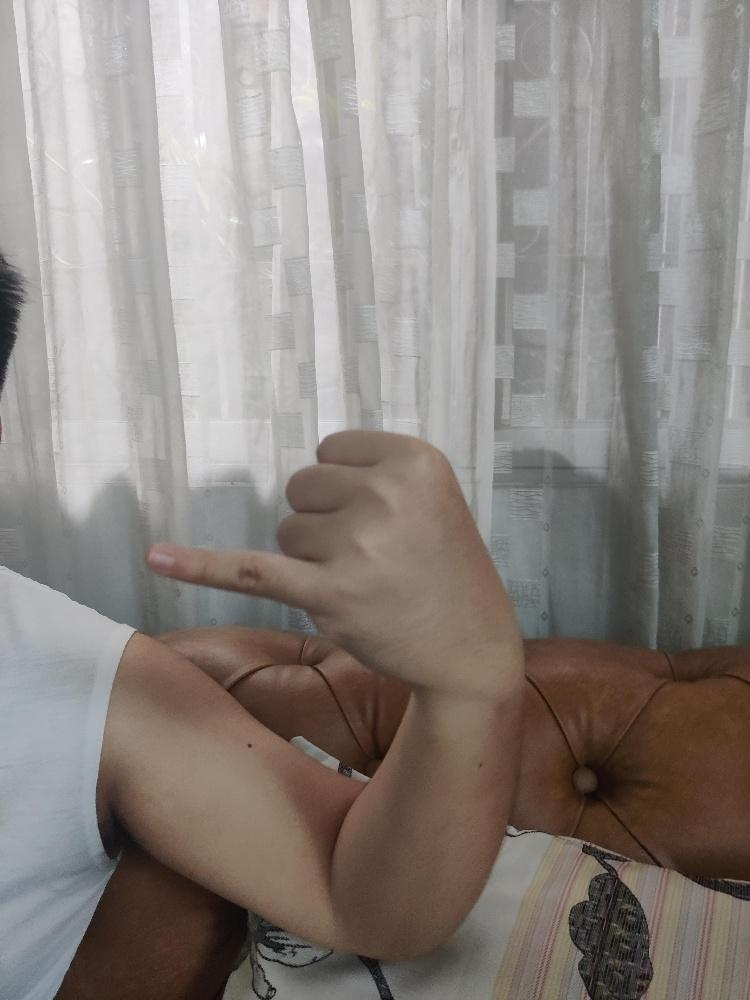j: (143, 424, 525, 693)
